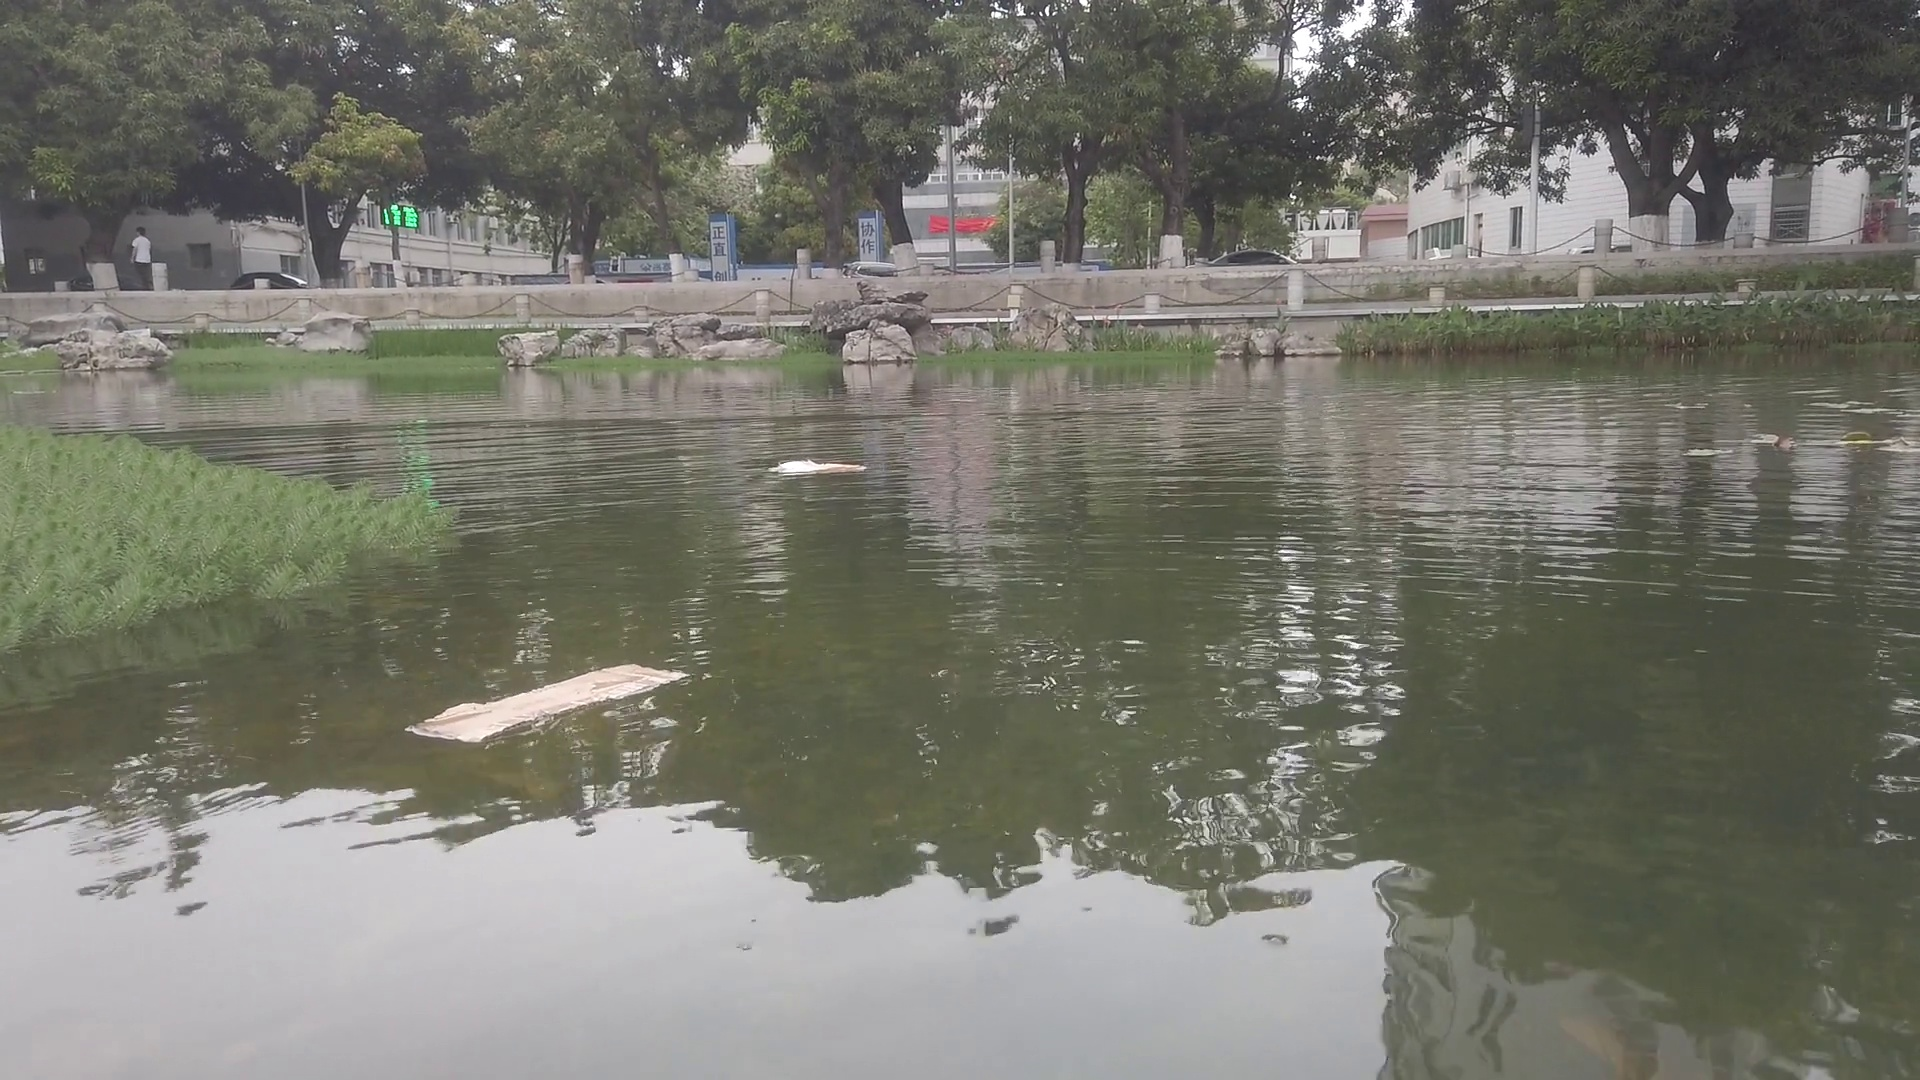paper: (419, 662, 692, 735), (771, 459, 870, 471)
